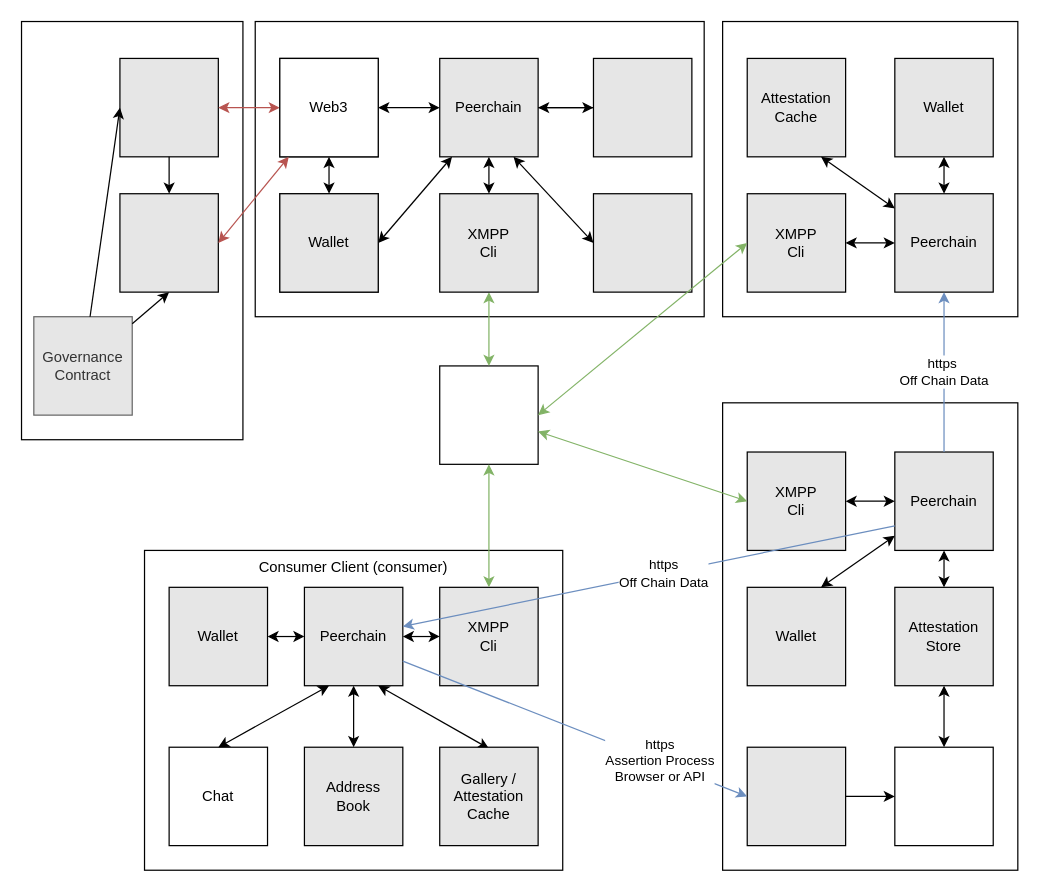
This 1039x892 diagram has some shape labels left out. Each missing label, with the box of its shape:
Assertion Interface (WebUI or API): (746, 746, 846, 846)
Attestation Engine (oracle): (254, 20, 704, 317)
Attestation Logic: (894, 746, 993, 846)
Attestation Meta Store: (592, 57, 692, 157)
Attestation Provider: (721, 402, 1018, 870)
Federator (s/Kad): (592, 192, 692, 292)
NFTMint: (119, 192, 218, 292)
On Chain: (20, 20, 243, 440)
Service Client: (721, 20, 1018, 317)
Treasury Contract: (119, 57, 218, 157)
XMPP Svr: (438, 365, 538, 464)
